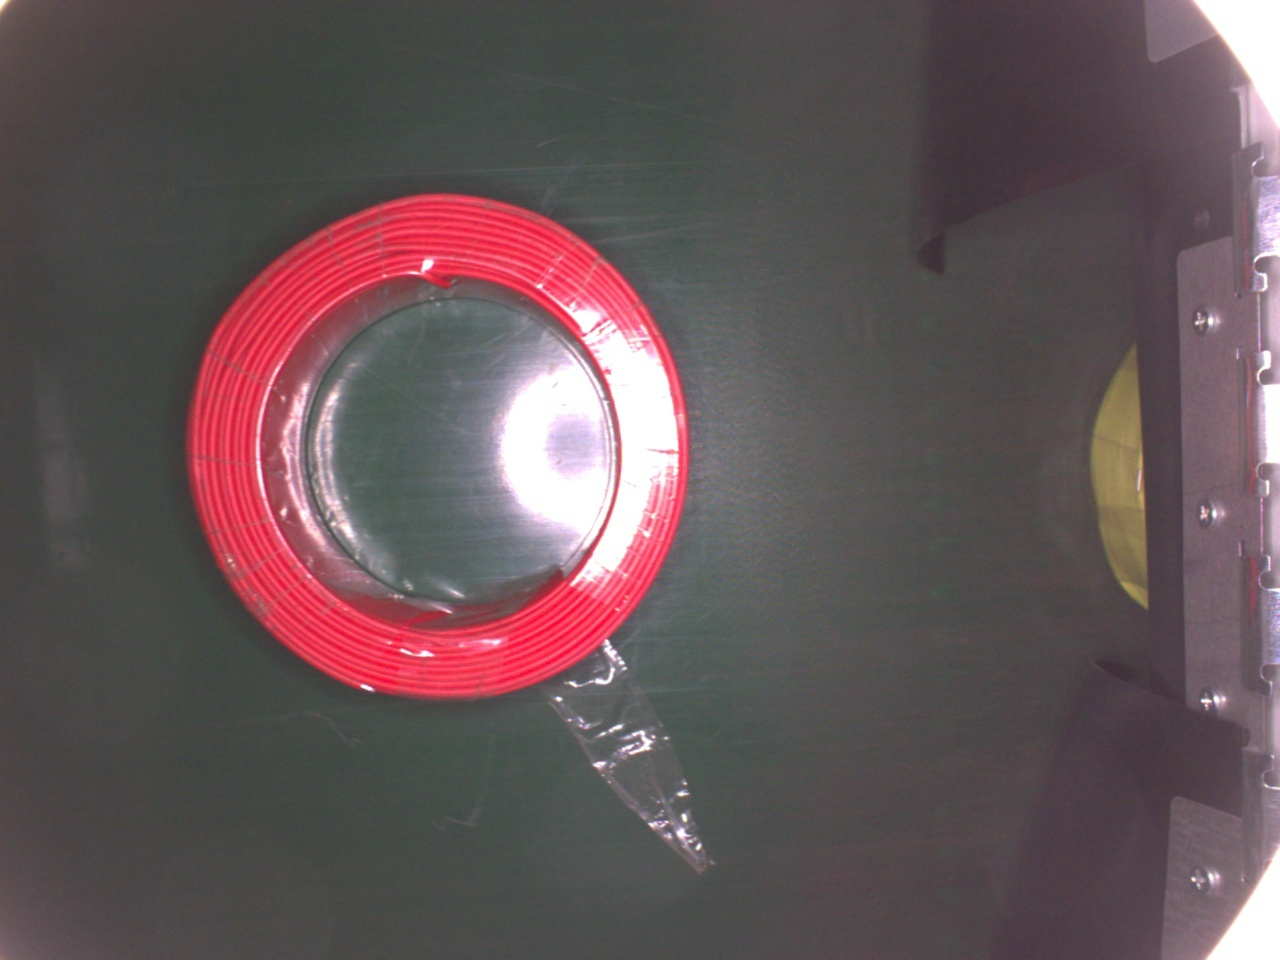red: (191, 187, 685, 706)
